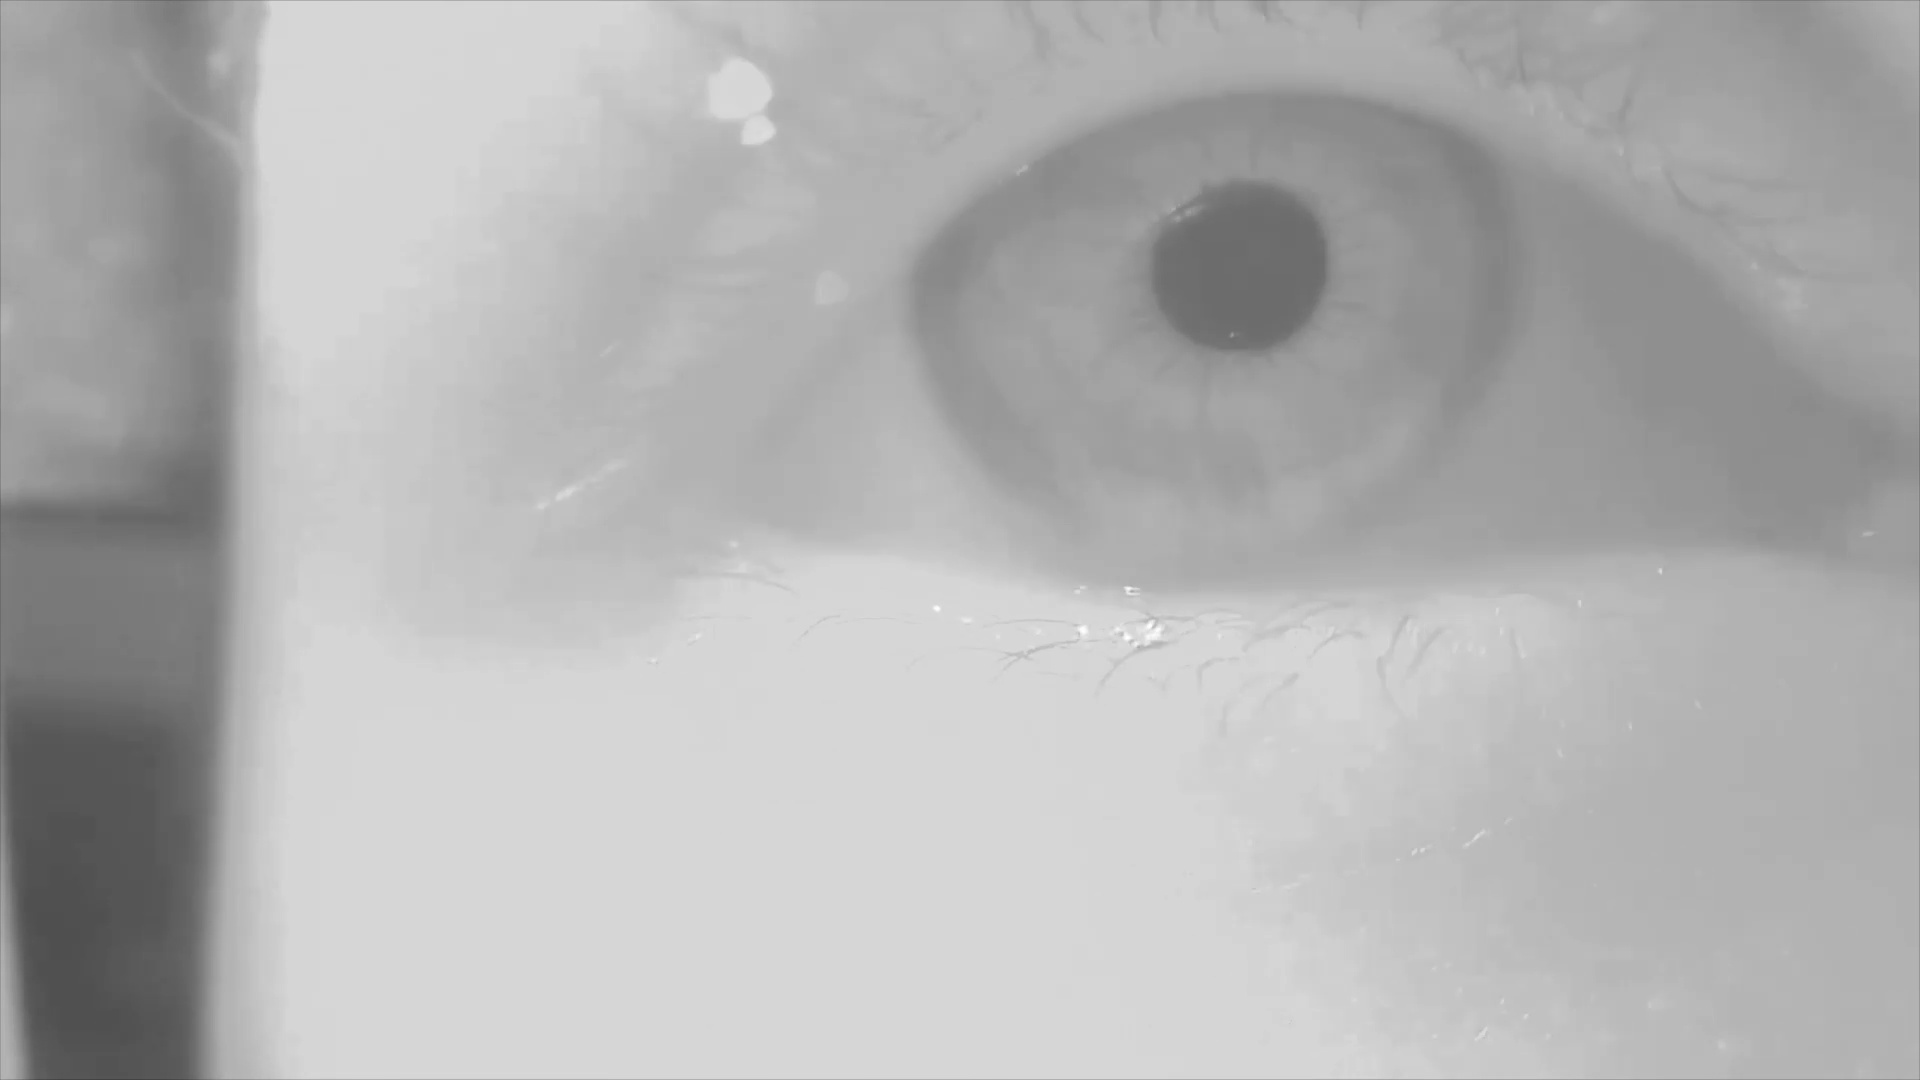pupil: (1150, 181, 1327, 350)
